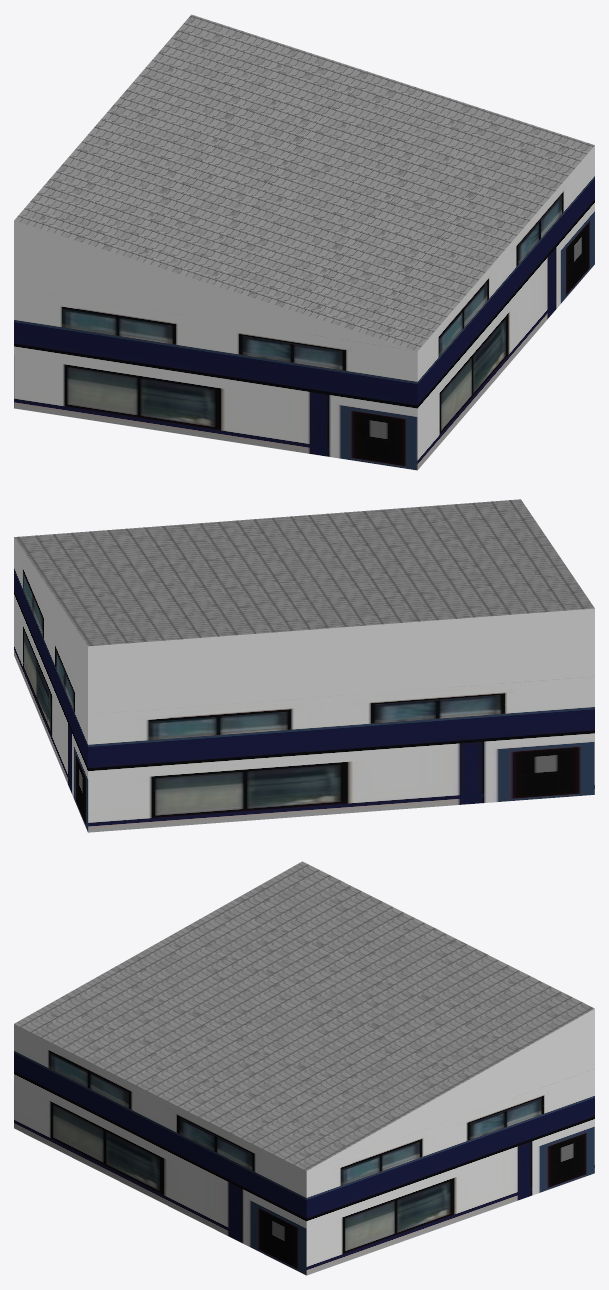
The picture shows the model from 3 angles, top to bottom: view 1: azimuth 30°, elevation 25°; view 2: azimuth 150°, elevation 25°; view 3: azimuth 270°, elevation 25°; orthographic projection. The views are drawn at different scales.
Visible parts, largest first — view 1: CityEngineMaterial_4_m, CityEngineMaterial_2_m, CityEngineMaterial_3_m; view 2: CityEngineMaterial_2_m, CityEngineMaterial_4_m, CityEngineMaterial_3_m; view 3: CityEngineMaterial_4_m, CityEngineMaterial_2_m, CityEngineMaterial_3_m.
Boxes of the visible parts, left/top/right/bottom form: CityEngineMaterial_4_m: left=14, top=14, right=594, bottom=350; CityEngineMaterial_2_m: left=14, top=145, right=594, bottom=470; CityEngineMaterial_3_m: left=14, top=220, right=415, bottom=350; CityEngineMaterial_2_m: left=14, top=538, right=594, bottom=832; CityEngineMaterial_4_m: left=14, top=499, right=594, bottom=646; CityEngineMaterial_3_m: left=14, top=538, right=594, bottom=714; CityEngineMaterial_4_m: left=14, top=861, right=594, bottom=1170; CityEngineMaterial_2_m: left=14, top=1024, right=594, bottom=1275; CityEngineMaterial_3_m: left=307, top=1009, right=594, bottom=1170.
Size of the model in its own units: 36.07 by 11.1 by 35.48.
